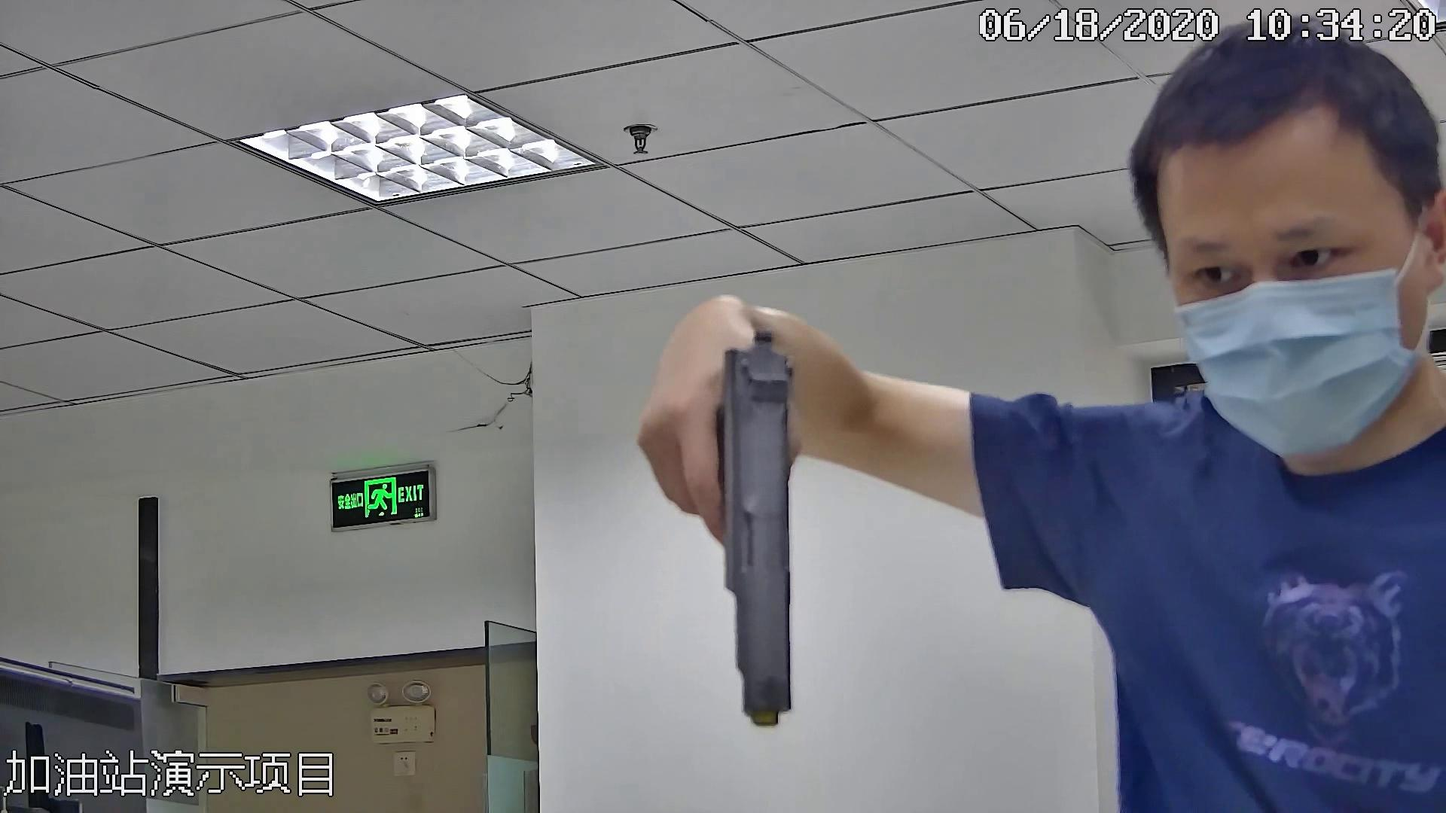gun: (637, 330, 812, 711)
